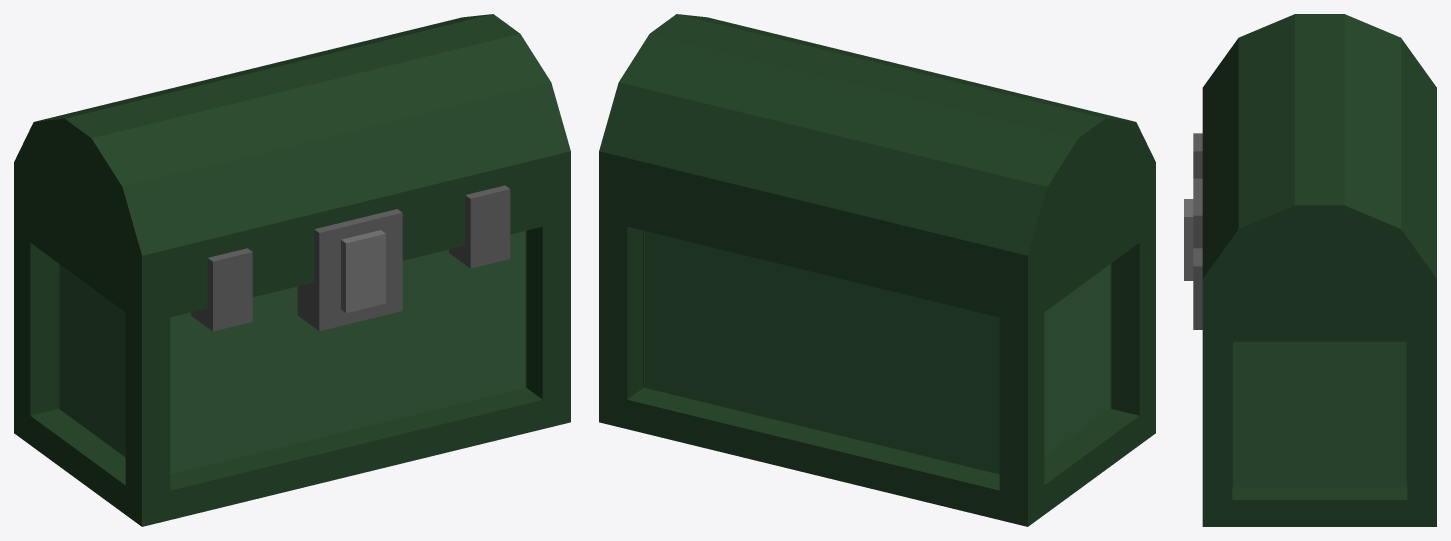
The model's file is Ship_034.glb.
The picture shows the model from 3 angles, left to right: view 1: azimuth 30°, elevation 25°; view 2: azimuth 150°, elevation 25°; view 3: azimuth 270°, elevation 25°; orthographic projection. The views are drawn at different scales.
Parts seen in each view (by area): view 1: Ship_034; view 2: Ship_034; view 3: Ship_034.
Part boxes in pixels (x1,y1,x2,y2): Ship_034: [14, 14, 570, 526]; Ship_034: [599, 14, 1155, 526]; Ship_034: [1184, 14, 1436, 526].
Size of the model in its own units: 1.1 by 0.8643 by 0.6159.
Materials: 1 (1 with a texture image).
